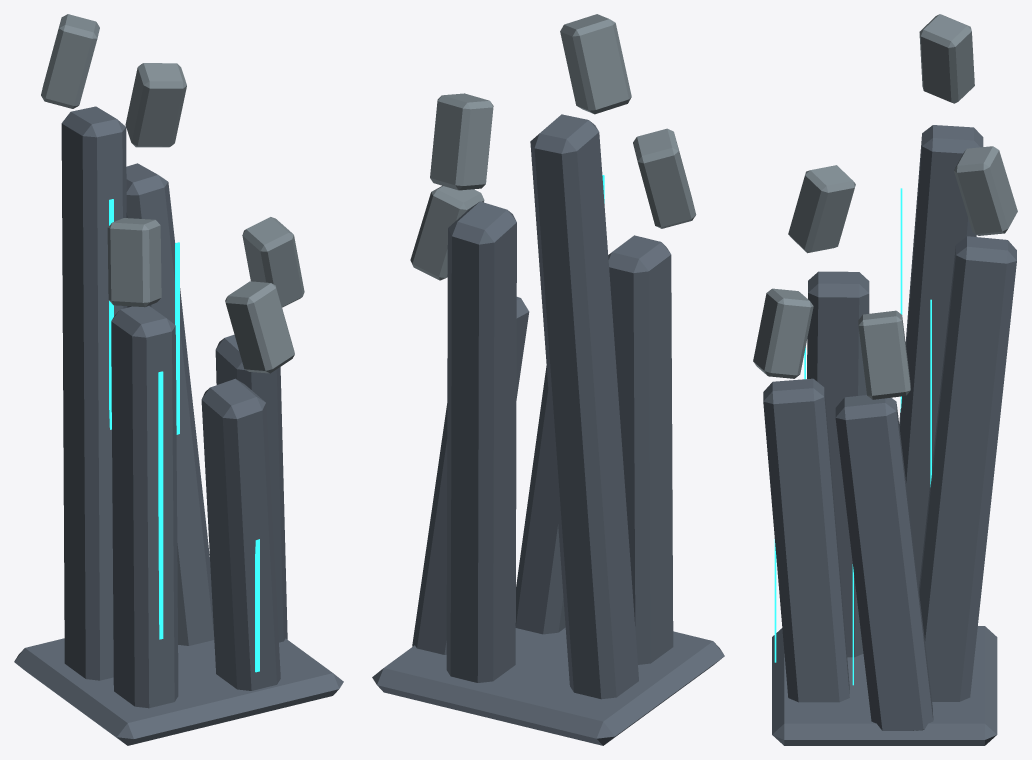
The model's file is ruin.glb.
3 views of the same model, side by side, from view 1: azimuth 30°, elevation 25°; view 2: azimuth 150°, elevation 25°; view 3: azimuth 270°, elevation 25° (orthographic). The views are drawn at different scales.
Parts seen in each view (by area): view 1: Fractured obelisk 2, Fractured obelisk 3, Fractured obelisk 4, Foundation, Fractured obelisk 1, Fractured obelisk 0, Suspended crown 3, Suspended crown 4, Suspended crown 1, Suspended crown 2, Suspended crown 0, Vertical circuit 3 (+2 smaller); view 2: Fractured obelisk 2, Fractured obelisk 1, Fractured obelisk 3, Foundation, Fractured obelisk 4, Fractured obelisk 0, Suspended crown 1, Suspended crown 2, Suspended crown 3, Suspended crown 0; view 3: Fractured obelisk 1, Fractured obelisk 0, Fractured obelisk 4, Fractured obelisk 2, Foundation, Fractured obelisk 3, Suspended crown 3, Suspended crown 4, Suspended crown 1, Suspended crown 2, Suspended crown 0.
Part boxes in pixels (box(x1,y1,x2,y2)): Fractured obelisk 2: box(61, 106, 127, 680); Fractured obelisk 3: box(111, 306, 178, 708); Fractured obelisk 4: box(201, 378, 280, 690); Foundation: box(14, 638, 343, 745); Fractured obelisk 1: box(126, 163, 214, 645); Fractured obelisk 0: box(215, 334, 287, 642); Suspended crown 3: box(107, 218, 161, 307); Suspended crown 4: box(225, 281, 294, 373); Suspended crown 1: box(125, 63, 186, 147); Suspended crown 2: box(41, 14, 99, 108); Suspended crown 0: box(242, 217, 304, 307); Vertical circuit 3: box(158, 371, 163, 639); Fractured obelisk 2: box(530, 114, 638, 699); Fractured obelisk 1: box(446, 201, 516, 682); Fractured obelisk 3: box(608, 235, 673, 664); Foundation: box(372, 627, 724, 745); Fractured obelisk 4: box(515, 366, 565, 634); Fractured obelisk 0: box(412, 297, 529, 654); Suspended crown 1: box(430, 93, 493, 190); Suspended crown 2: box(560, 14, 631, 114); Suspended crown 3: box(633, 128, 696, 228); Suspended crown 0: box(410, 185, 484, 280); Fractured obelisk 1: box(919, 236, 1016, 701); Fractured obelisk 0: box(835, 395, 933, 730); Fractured obelisk 4: box(763, 378, 849, 702); Fractured obelisk 2: box(899, 125, 983, 589); Foundation: box(772, 626, 997, 745); Fractured obelisk 3: box(807, 271, 869, 657); Suspended crown 3: box(788, 165, 855, 253); Suspended crown 4: box(753, 288, 813, 378); Suspended crown 1: box(954, 146, 1017, 235); Suspended crown 2: box(919, 14, 974, 103); Suspended crown 0: box(858, 310, 910, 399).
Size of the model in its own units: 2.56 by 6.93 by 2.59.
